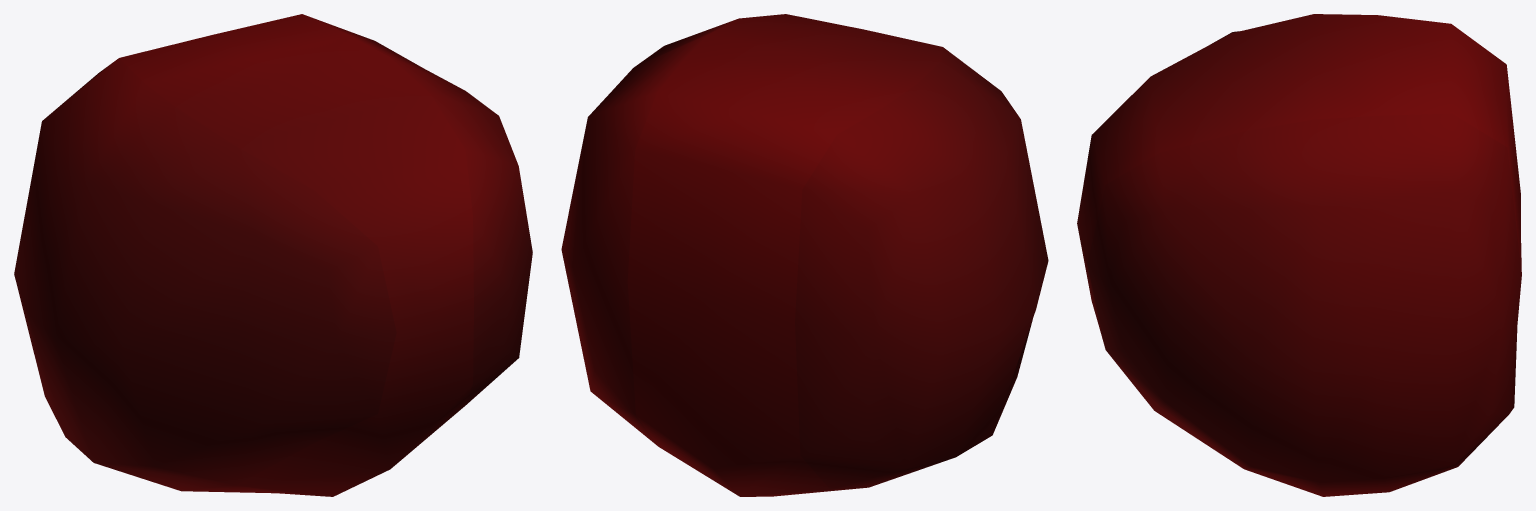
Rendered from geology-pebbles-limestonepebble_v8.fbx.
3 renders of one model, left to right at view 1: azimuth 30°, elevation 25°; view 2: azimuth 150°, elevation 25°; view 3: azimuth 270°, elevation 25°, orthographic. The views are drawn at different scales.
Visible parts, largest first — view 1: LimestonePebble_v8; view 2: LimestonePebble_v8; view 3: LimestonePebble_v8.
Boxes of the visible parts, x1=… form: LimestonePebble_v8: x1=14, y1=14, x2=532, y2=496; LimestonePebble_v8: x1=561, y1=14, x2=1048, y2=496; LimestonePebble_v8: x1=1077, y1=14, x2=1521, y2=496.
Bounding box in the file's own units: 10.03 × 9.11 × 8.86.
